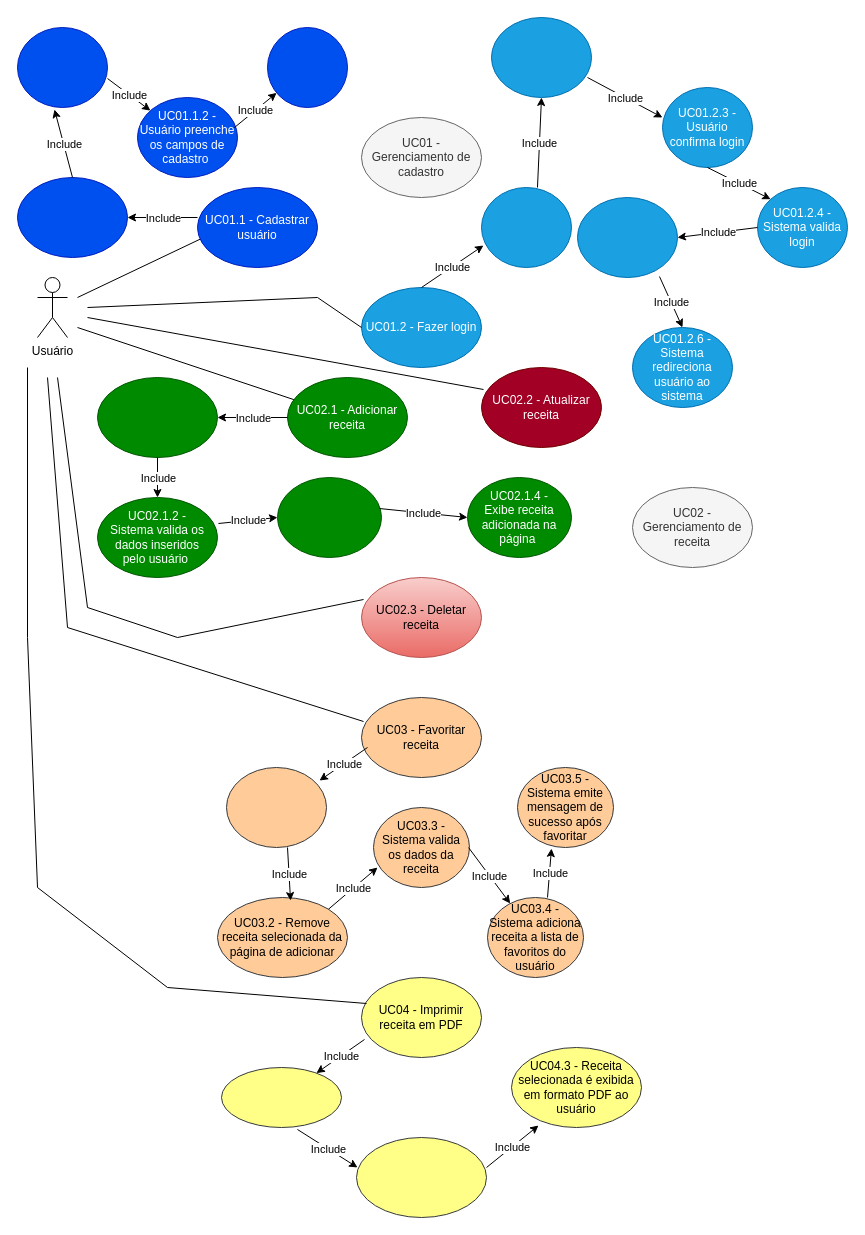
Image size: 865x1235. Some labels were removed from this diagram. The centre of each missing label's shape, as x and y in pixels:
UC01.1.1 - Usuário acessa a página de cadastro: (62,67)
UC01.1.3 - Usuário confirma cadastro: (307,67)
UC01.1.4 - O sistema cria um novo registro com os dados do usuário: (72,217)
UC01.2.1 - Usuário acessa a página de login: (526,227)
UC01.2.2 - Usuário preenche os campos com suas informações: (541,57)
UC01.2.5 - Sistema autentica e cria sessão de login: (627,237)
UC02.1.1 - Usuário preenche os campos para adicionar receita: (157,417)
UC02.1.3 - Sistema adiciona receita no BD: (329,517)
UC03.1 - Usuário escolhe receita para favoritar: (276,807)
UC04.1 - Uusário escolhe a receita: (281,1097)
UC04.2 - O sistema valida os dados da receita selecionada: (421,1177)
